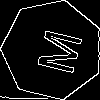M: (27, 25, 83, 77)
